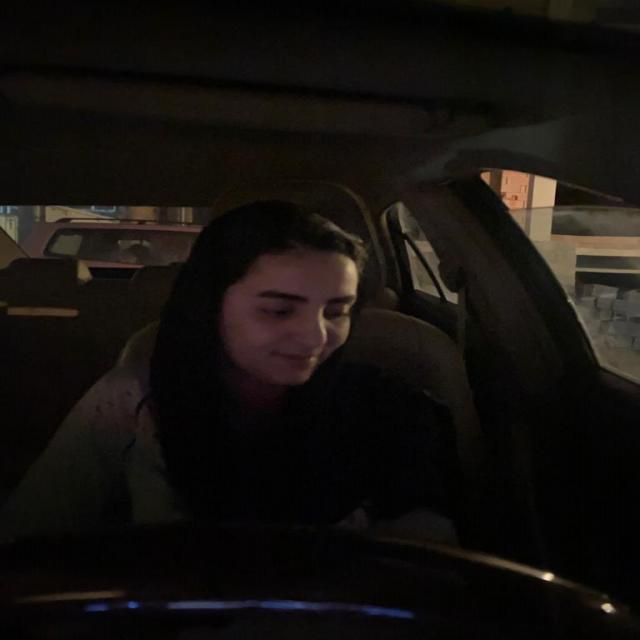person: (198, 202, 384, 408)
